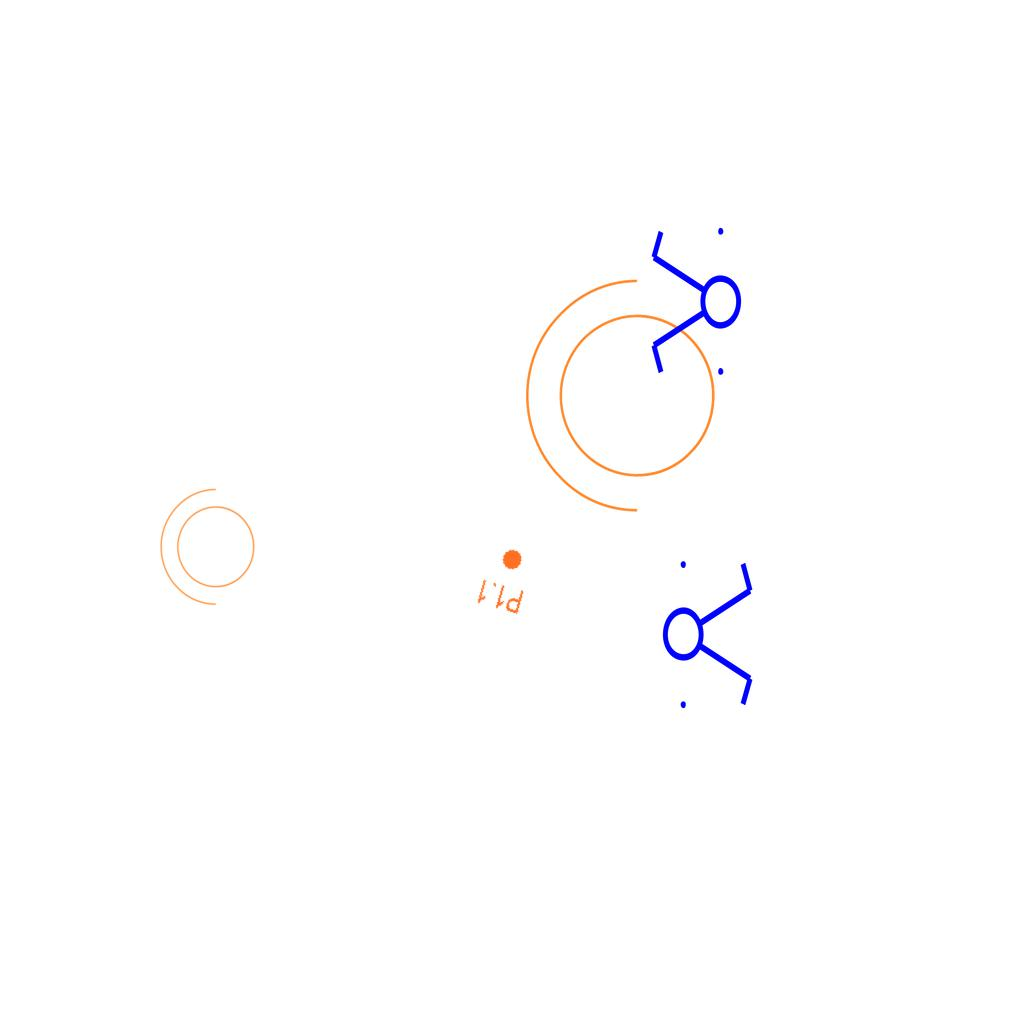Downlight_LED_Einbauleuchten_Flur: (474, 541, 536, 617)
Scheinwerfer_fuer_Alarmbeleuchtung: (515, 270, 740, 534), (155, 484, 267, 616)
Serienschalter: (661, 549, 757, 717), (647, 219, 743, 387)
